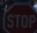Stop sign: (0, 0, 36, 32)
